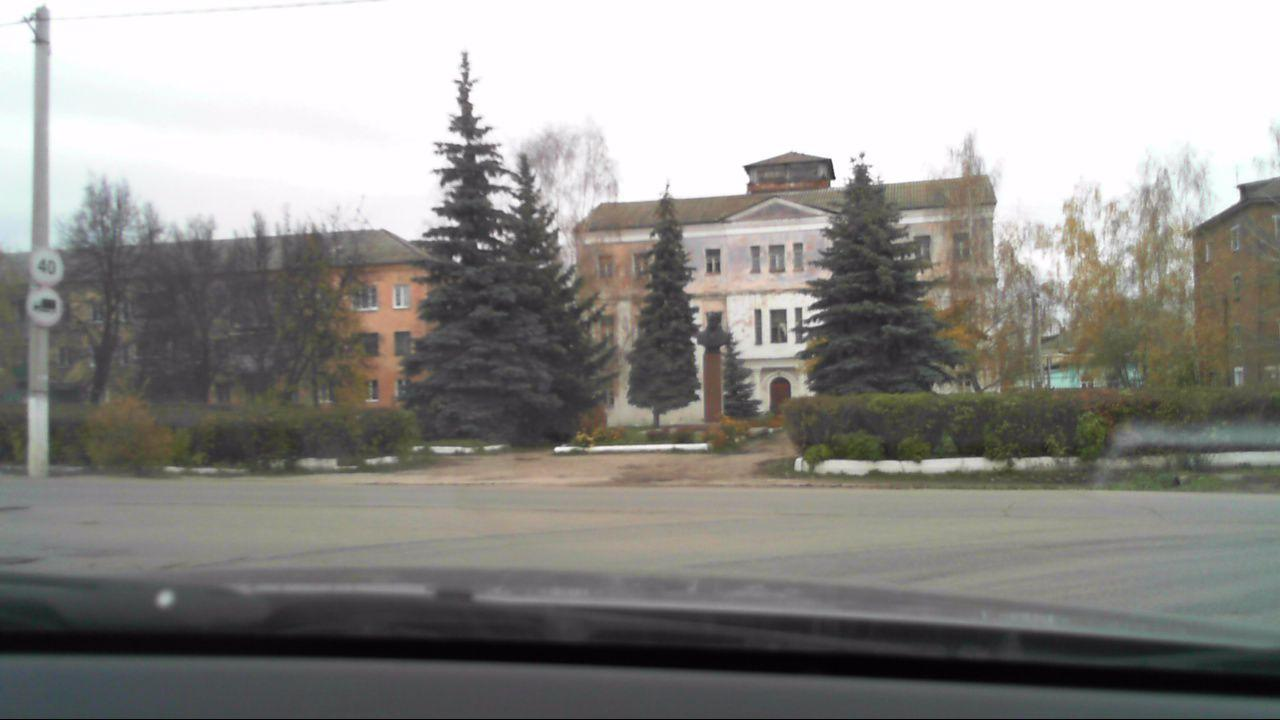3_24: (29, 247, 63, 287)
3_4: (30, 291, 66, 327)
